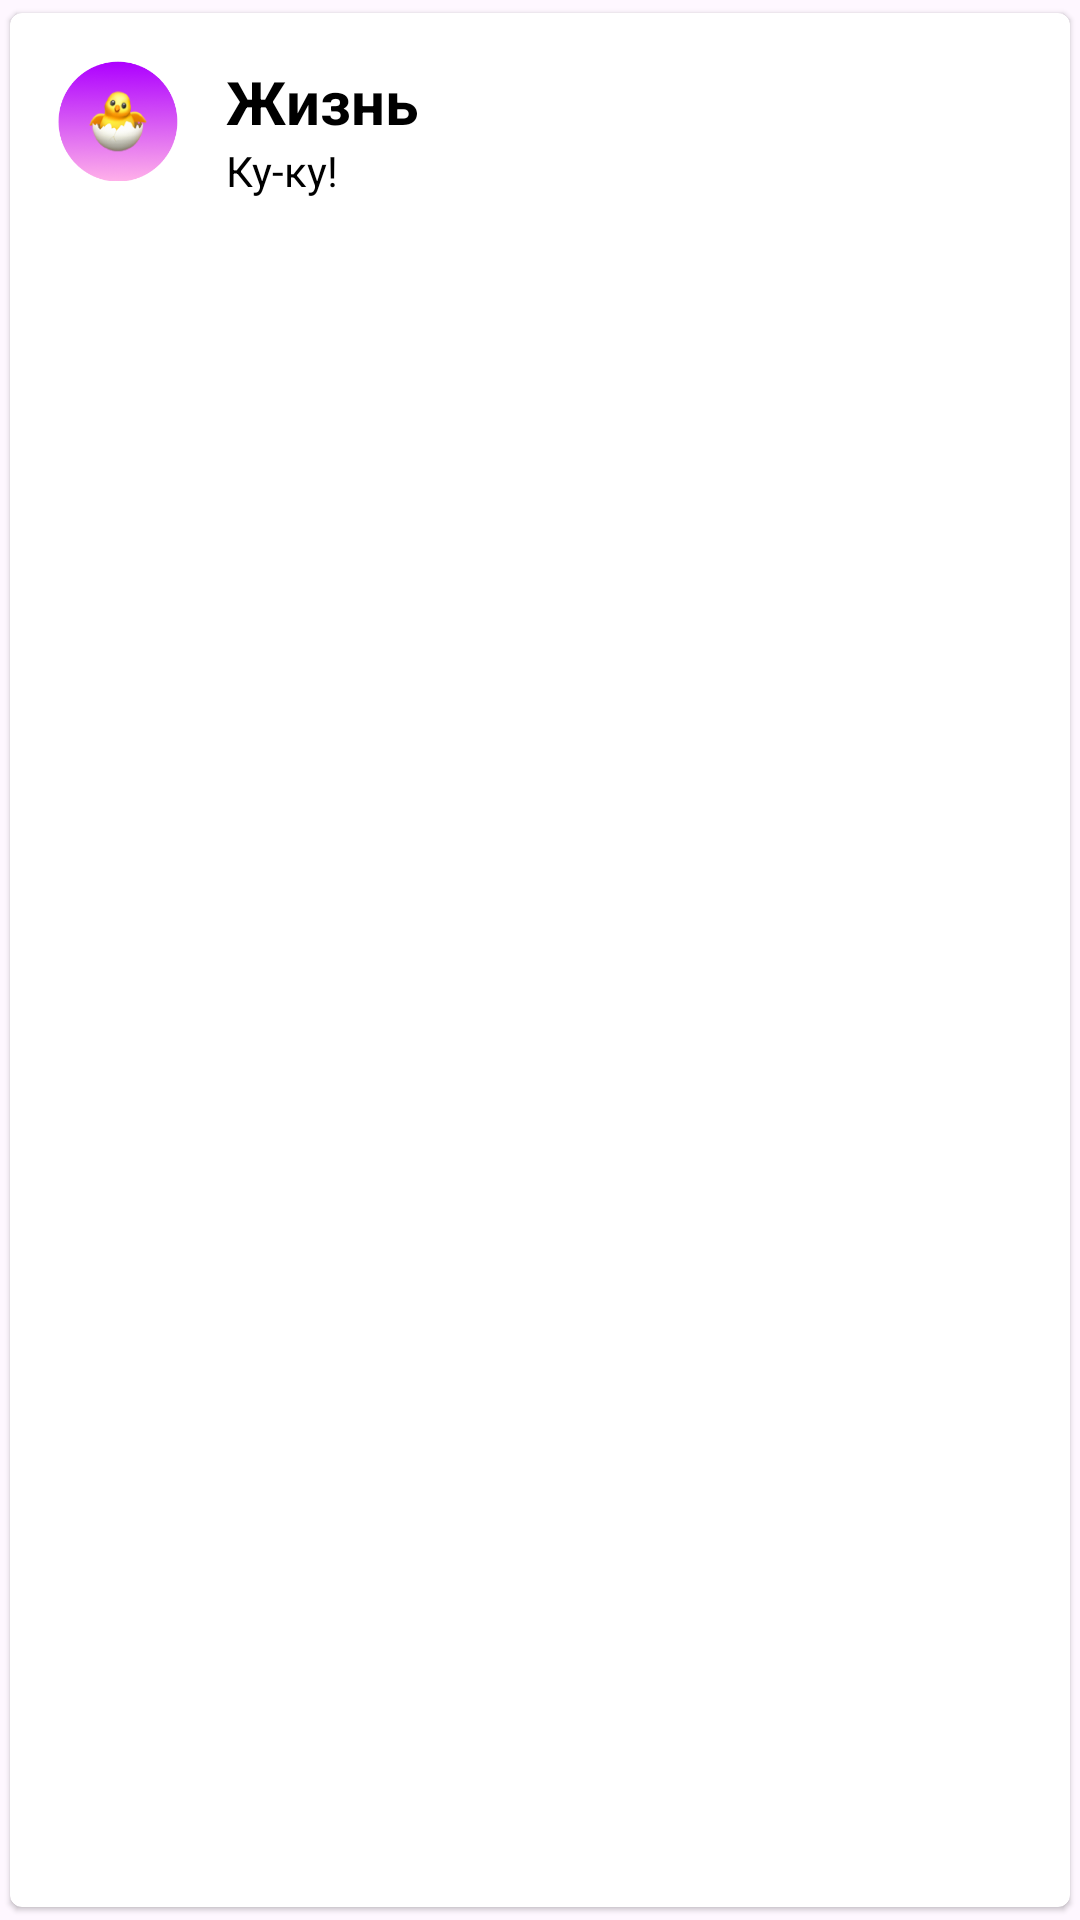

Icons on this 1080px×1920px Android screen, each with the point to tap as point (x, y):
chiken: point (118, 121)
